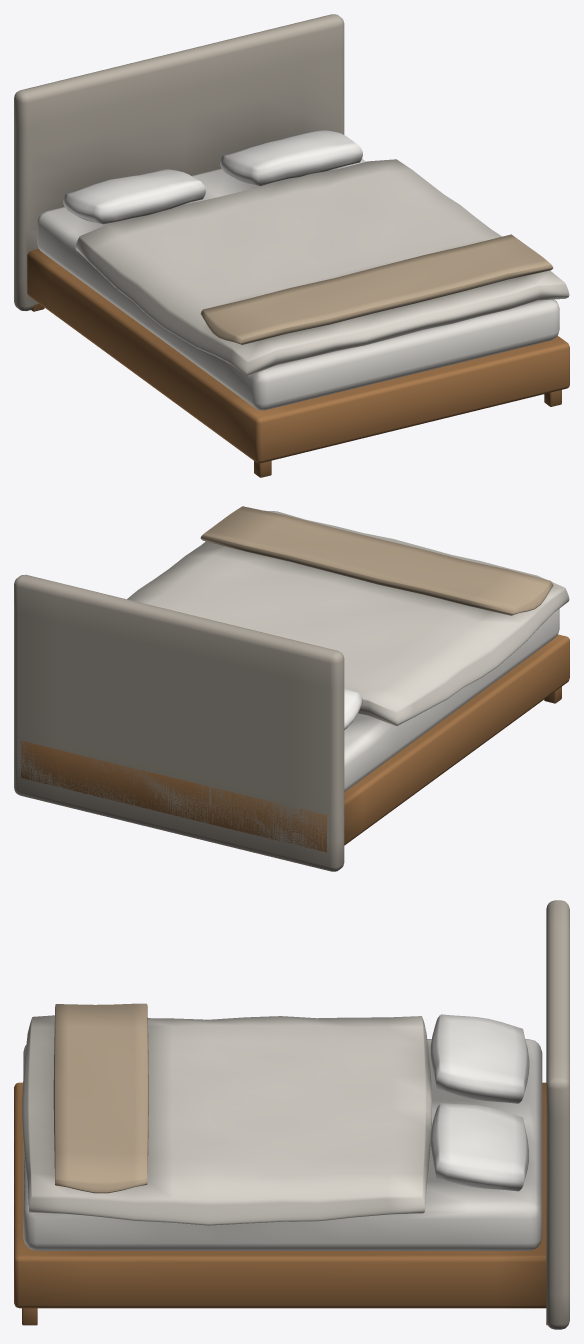
Rendered from lit160.glb.
The picture shows the model from 3 angles, top to bottom: view 1: azimuth 30°, elevation 25°; view 2: azimuth 150°, elevation 25°; view 3: azimuth 270°, elevation 25°; orthographic projection. The views are drawn at different scales.
Parts seen in each view (by area): view 1: couette, tete, cadre, matelas, plaid, oreillers; view 2: tete, couette, cadre, plaid, matelas, oreillers; view 3: couette, cadre, matelas, plaid, oreillers, tete.
Boxes of the visible parts, x1,y1,x2,y2 form: couette: (75, 159, 569, 376); tete: (14, 14, 344, 310); cadre: (27, 249, 569, 477); matelas: (37, 159, 559, 410); plaid: (200, 234, 553, 344); oreillers: (63, 129, 362, 224); tete: (14, 574, 344, 871); couette: (127, 510, 569, 726); cadre: (21, 634, 569, 852); plaid: (200, 506, 553, 615); matelas: (344, 608, 559, 791); oreillers: (344, 688, 362, 729); couette: (22, 1015, 431, 1225); cadre: (14, 1082, 547, 1325); matelas: (23, 1039, 542, 1250); plaid: (53, 1003, 148, 1193); oreillers: (430, 1014, 529, 1191); tete: (546, 900, 569, 1329).
Size of the model in its own units: 1.68 by 1.05 by 2.1.
